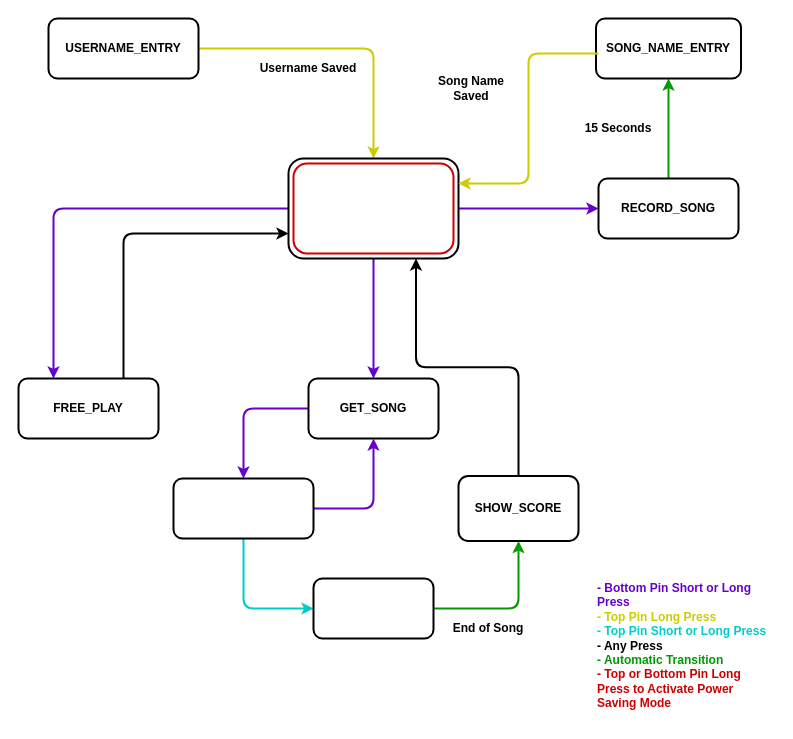
Image size: 793x739. Some labels were removed from this diagram. Here are the shapes that lost their labels. From the top down, the centre of each, then its label:
At (x=373, y=208): "MENU".
At (x=243, y=508): "PLAY_OR_RESELECT".
At (x=373, y=608): "PLAY".
